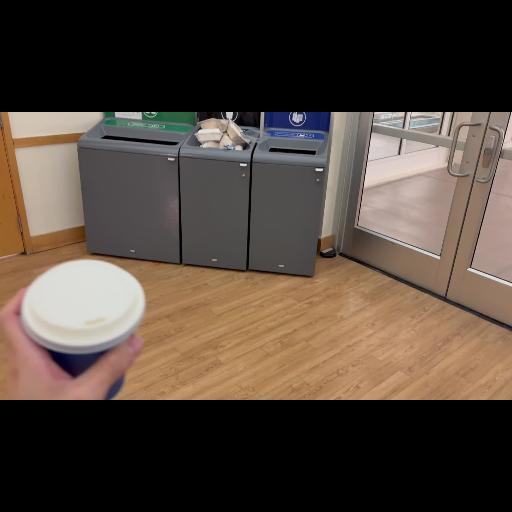lp_paper_cup: (15, 256, 143, 400)
